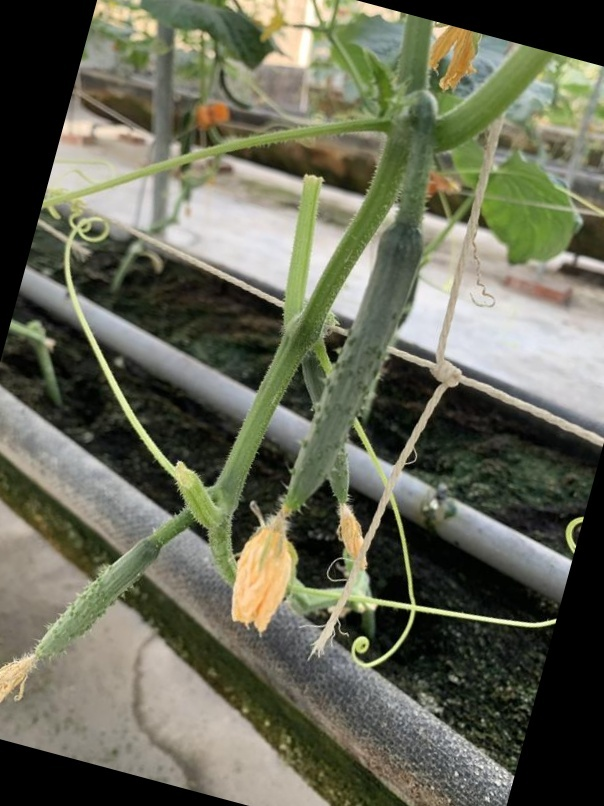bear: (0, 534, 166, 709)
growth: (237, 222, 428, 604)
